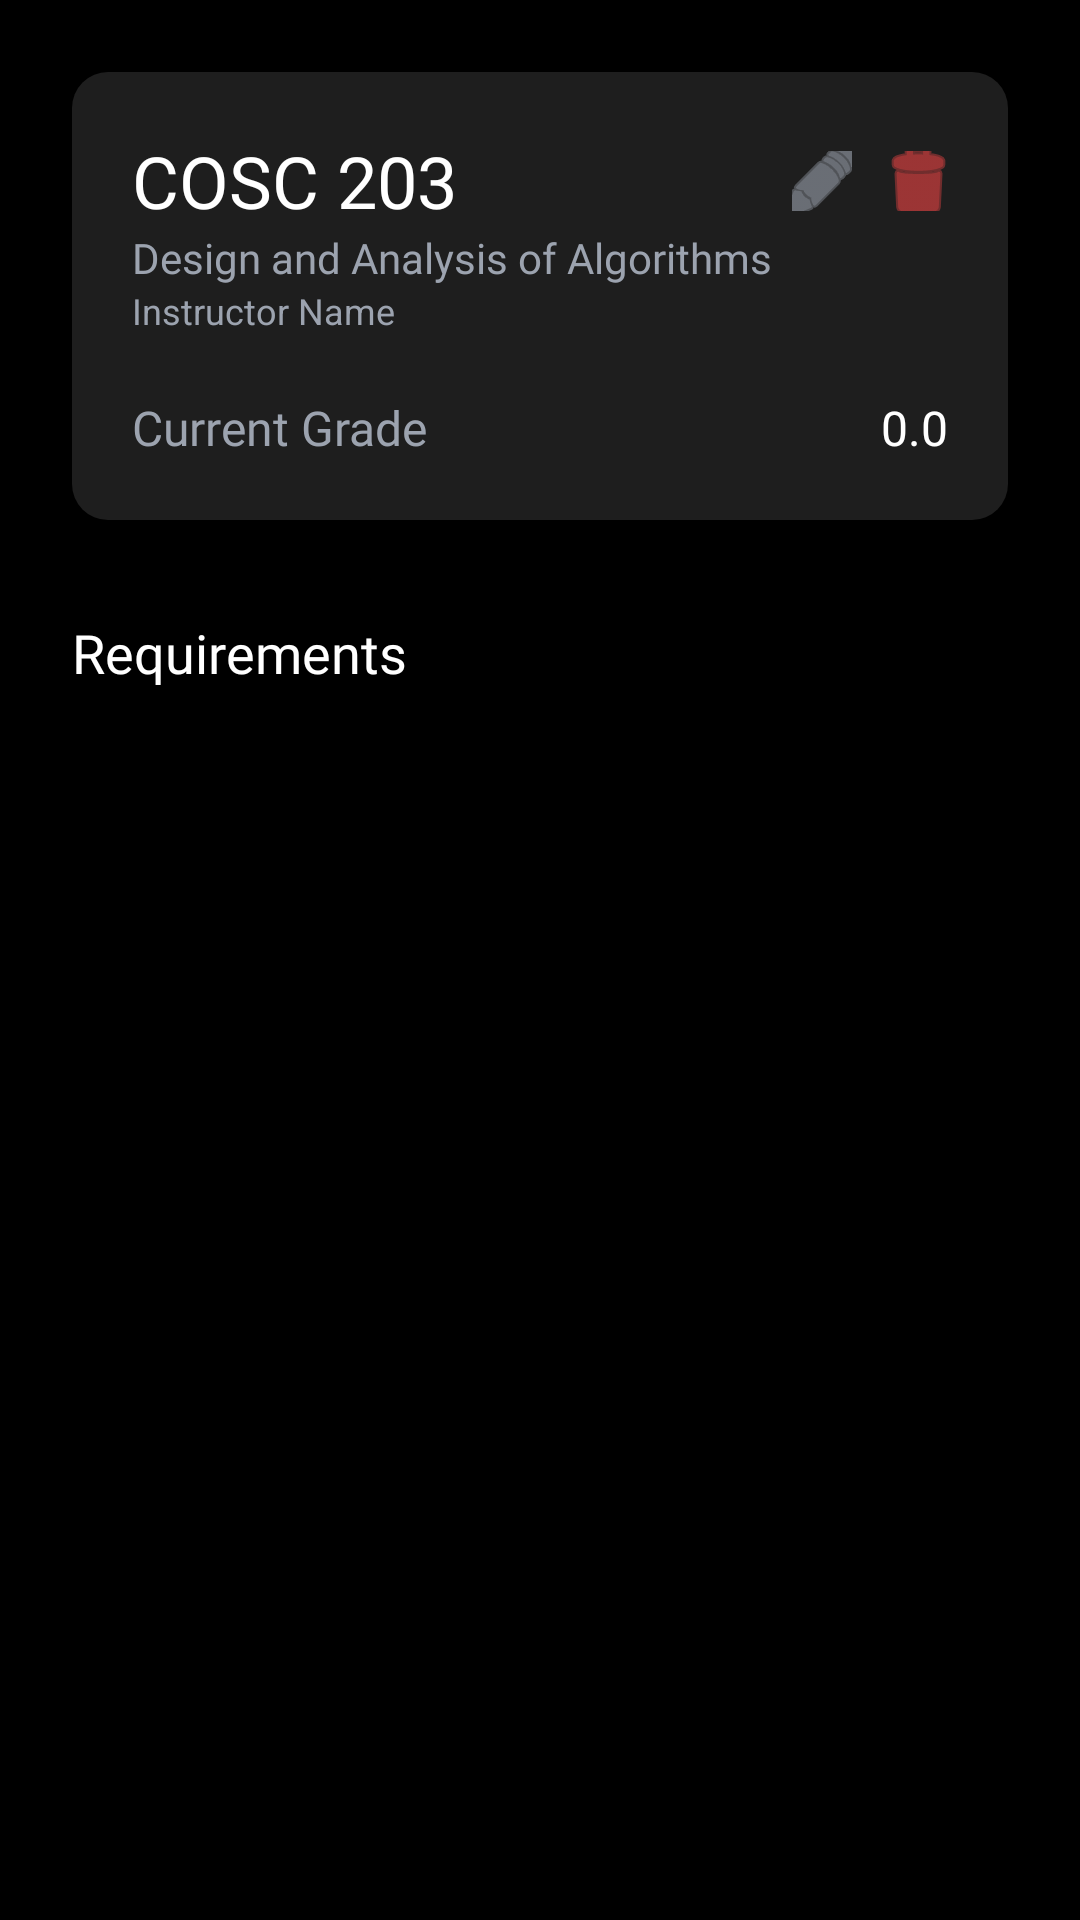

Named icons in this screenshot (1080px x 1920px) and their bounding boxes, (x1, y1, x2, y2):
Delete Course: (891, 151, 946, 211)
Edit Course: (792, 151, 852, 211)
